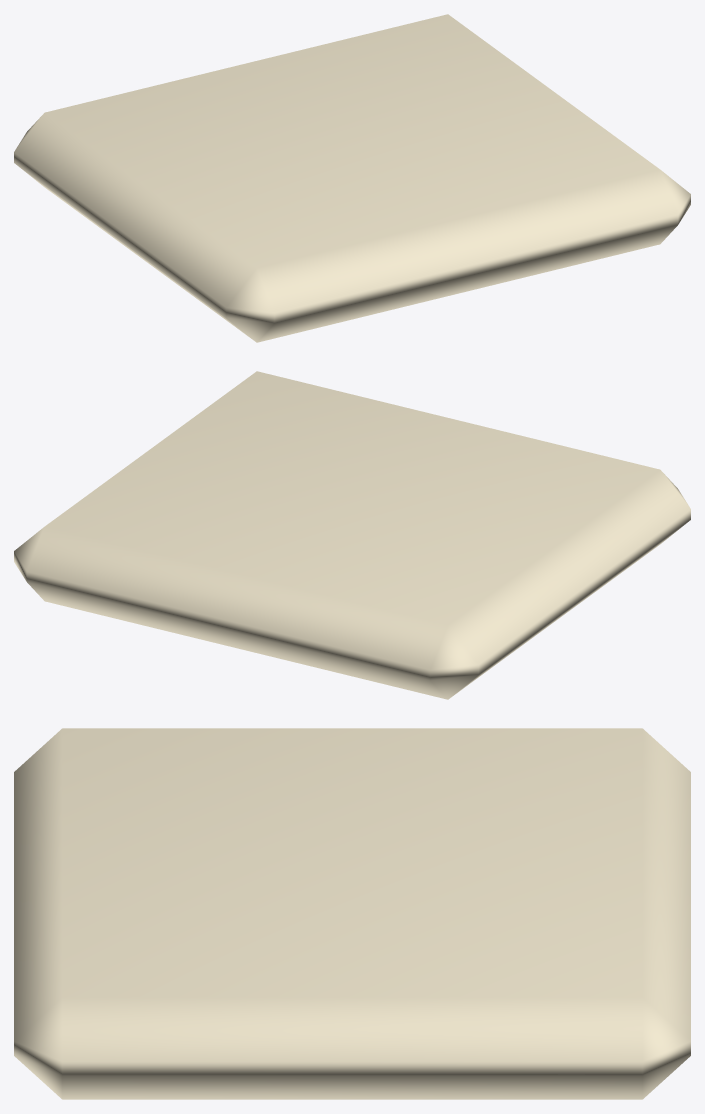
The model's file is light-paving-stone.glb.
The picture shows the model from 3 angles, top to bottom: view 1: azimuth 30°, elevation 25°; view 2: azimuth 150°, elevation 25°; view 3: azimuth 270°, elevation 25°; orthographic projection. The views are drawn at different scales.
Visible parts, largest first — view 1: Light paving stone; view 2: Light paving stone; view 3: Light paving stone.
Boxes of the visible parts, x1,y1,x2,y2 form: Light paving stone: (14,14,690,342); Light paving stone: (14,371,690,699); Light paving stone: (14,728,690,1099).
Size of the model in its own units: 0.91 by 0.14 by 0.84.
